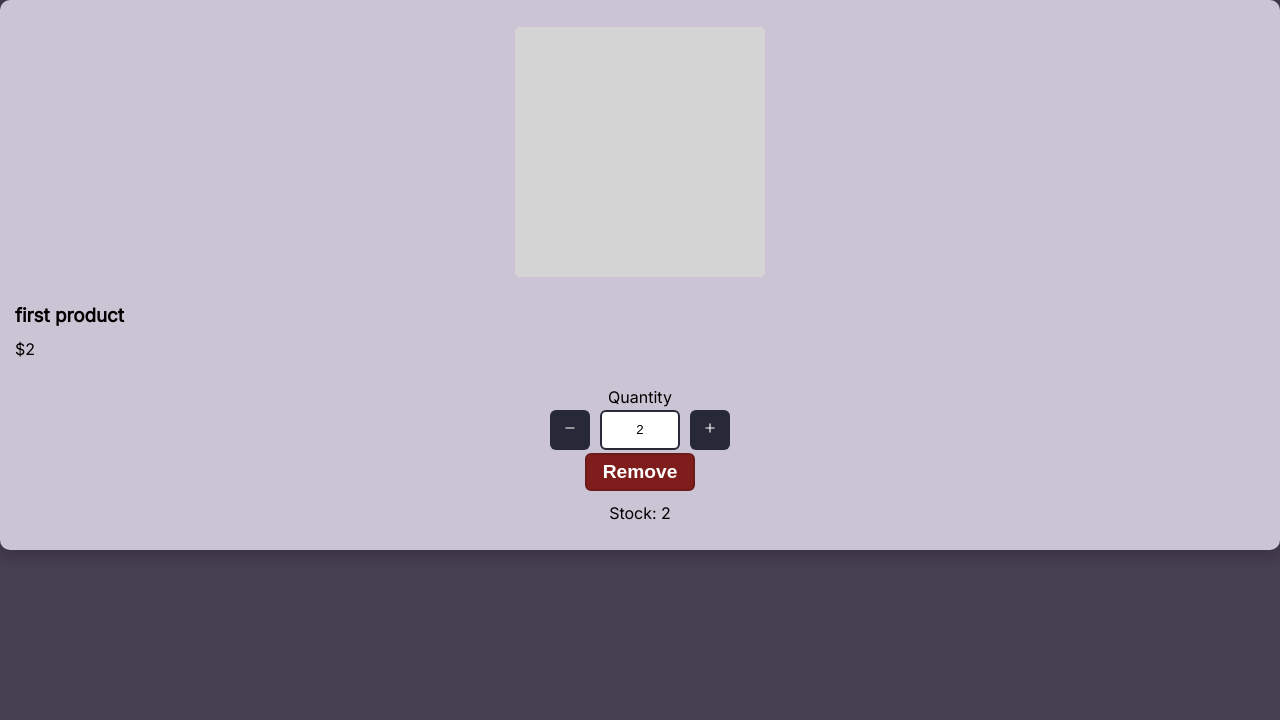
Scenario: Cart Item › should switch increment to a delete button
Step 1. Click the button named "Decrease quantity" → (570, 430), box [550,410,590,450]
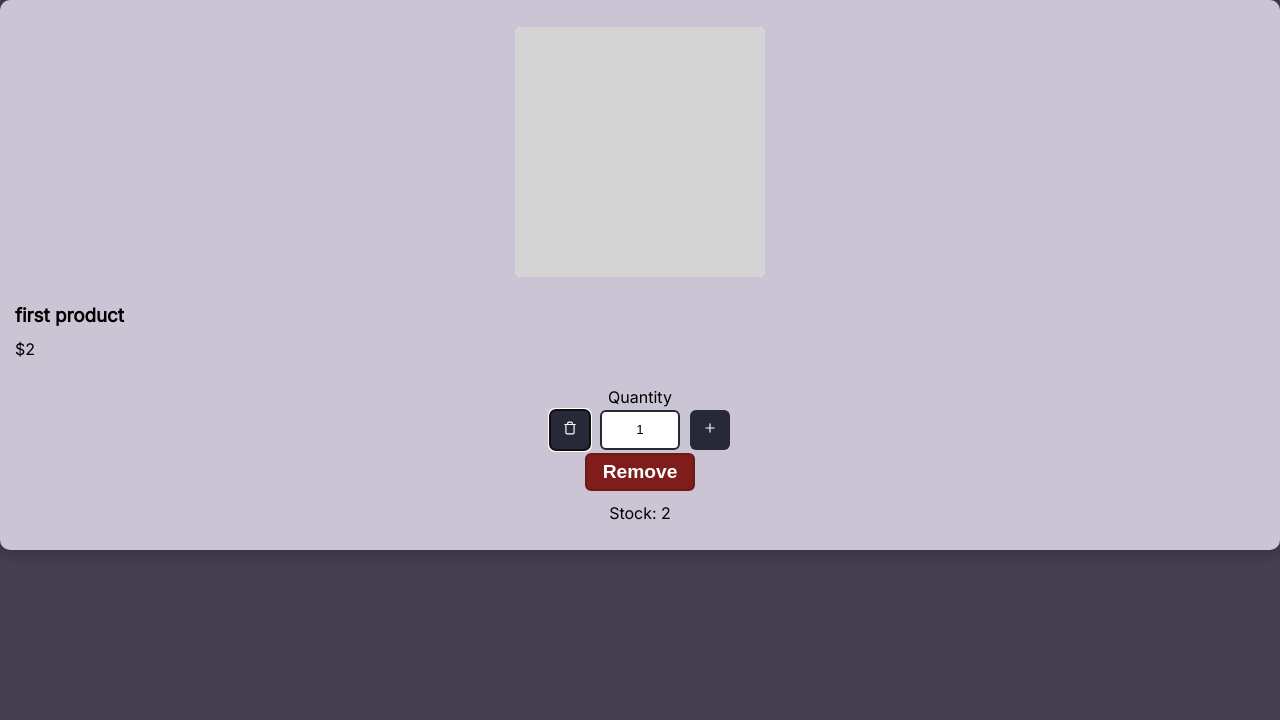
Expected: the button named "Delete item" is shown, [550,410,590,450]
